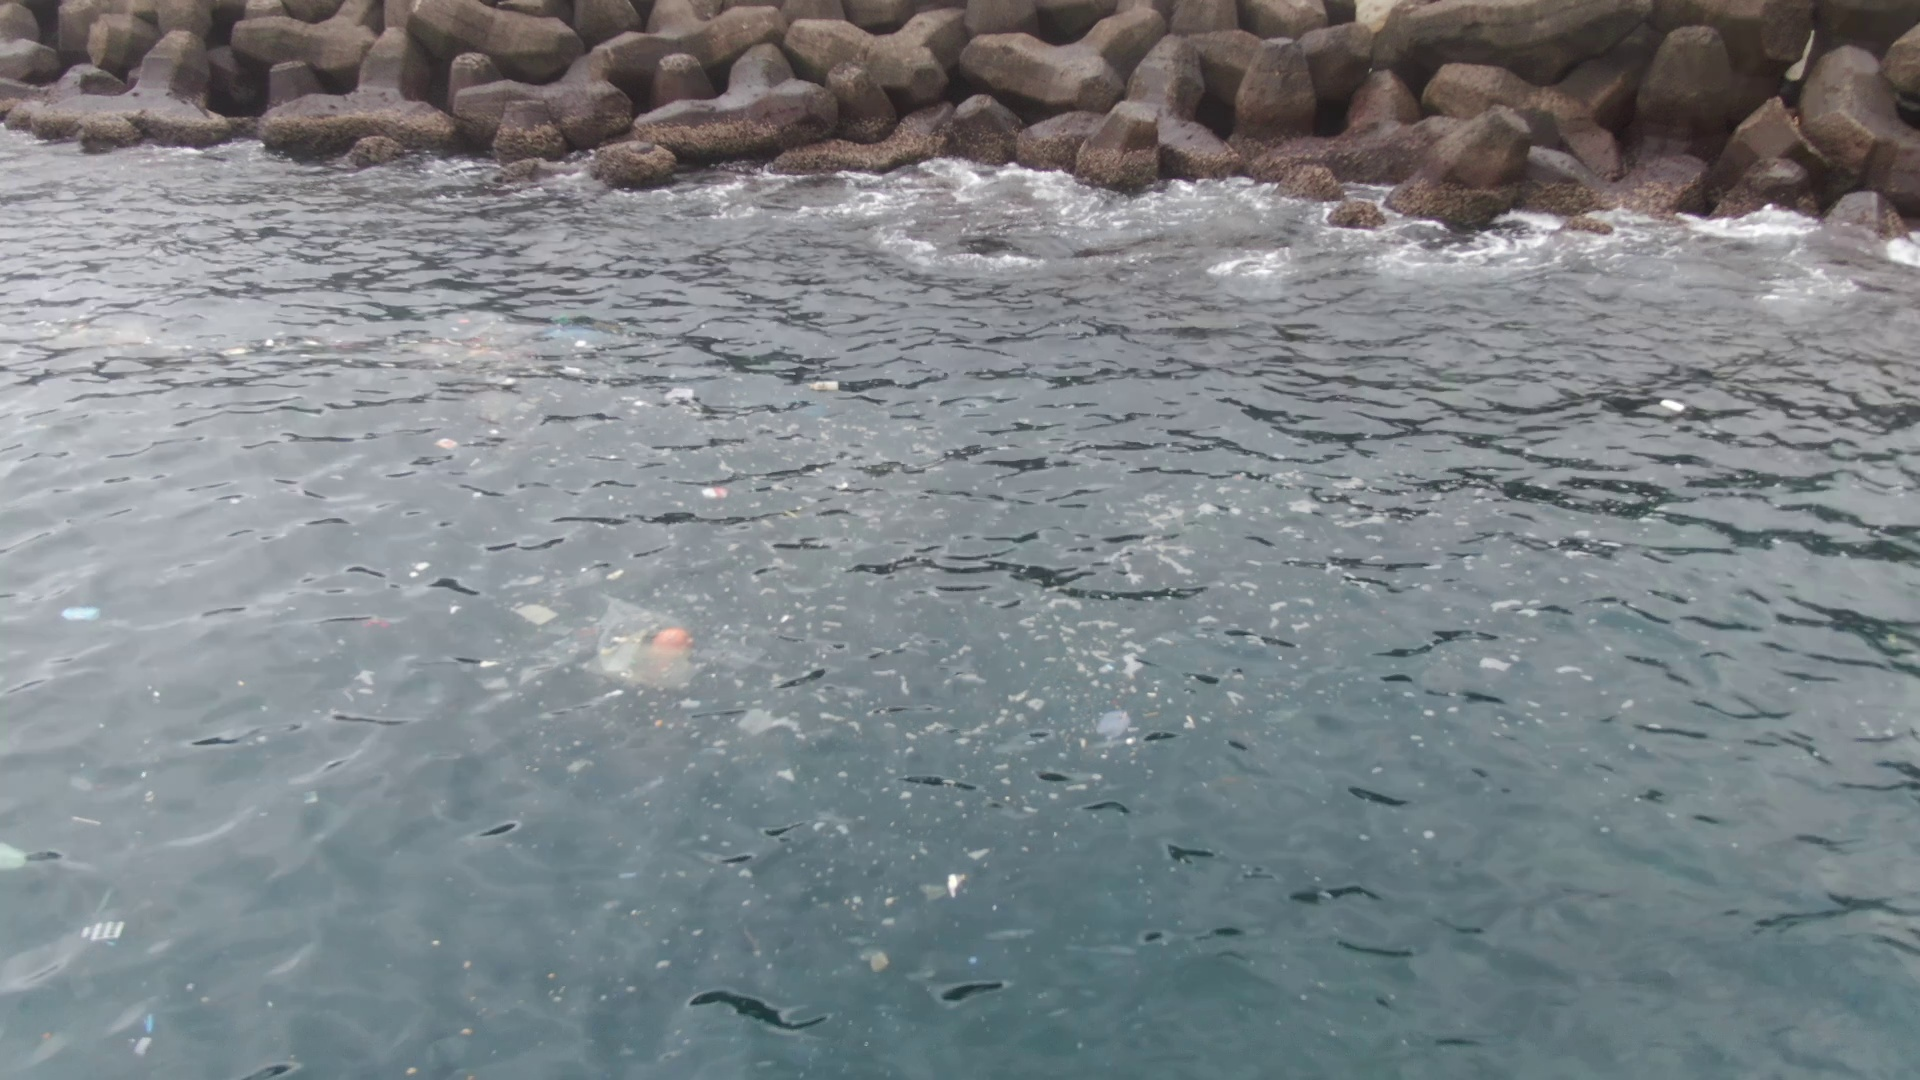garbage: (644, 615, 720, 676)
